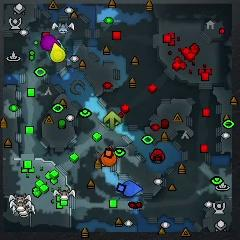p1: (121, 181, 143, 195)
p3: (41, 35, 59, 50)
p4: (49, 43, 65, 63)
p5: (100, 151, 118, 167)
x2: (103, 111, 121, 129)
x3: (56, 38, 67, 50)
